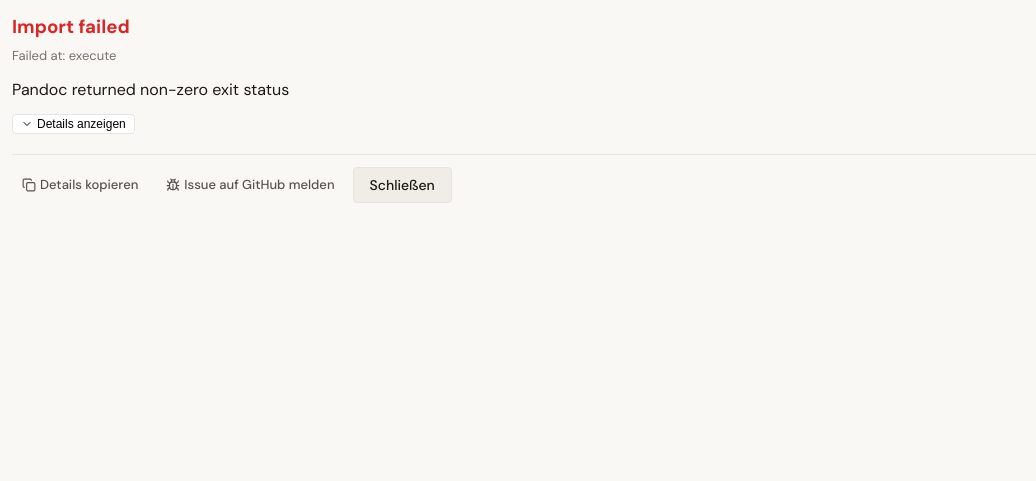
Scenario: ErrorStep › Show details discloses the formatted payload
What coordinates should you click on to do the following:
click the button with test id "error-step-toggle-details"
I would click on:
 (73, 124)
Its box is [12,114,135,134].
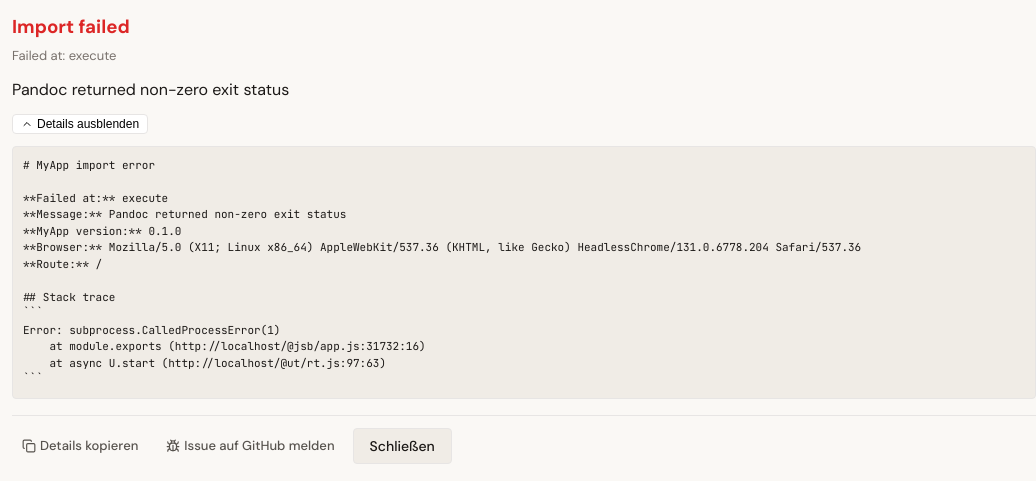
Now the text with test id "error-step-details" shows "execute", box [23,158,861,386]
Now the text with test id "error-step-details" shows "Pandoc returned non-zero", box [23,158,861,386]
